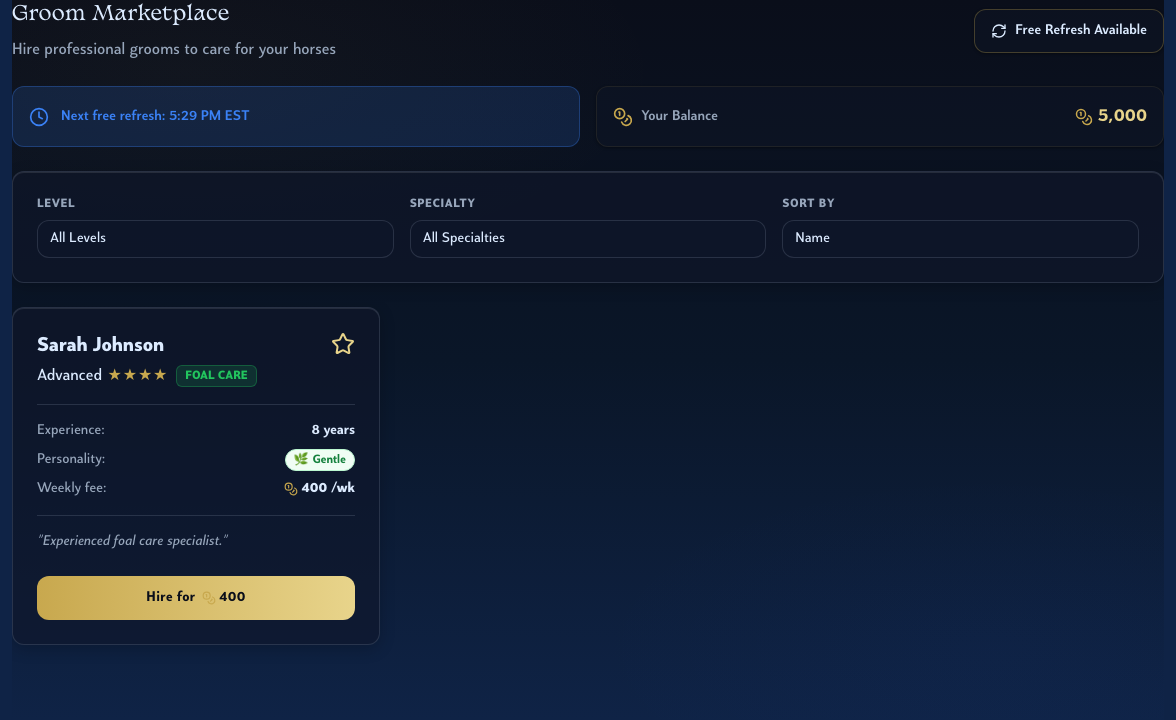
Test: GroomList — refusal codes (Equoria-dosig) › a short balance is named as a short balance, not as a full roster
Click the button with aria-label "hire sarah johnson". click: (196, 598)
box: x1=37 y1=576 x2=355 y2=620
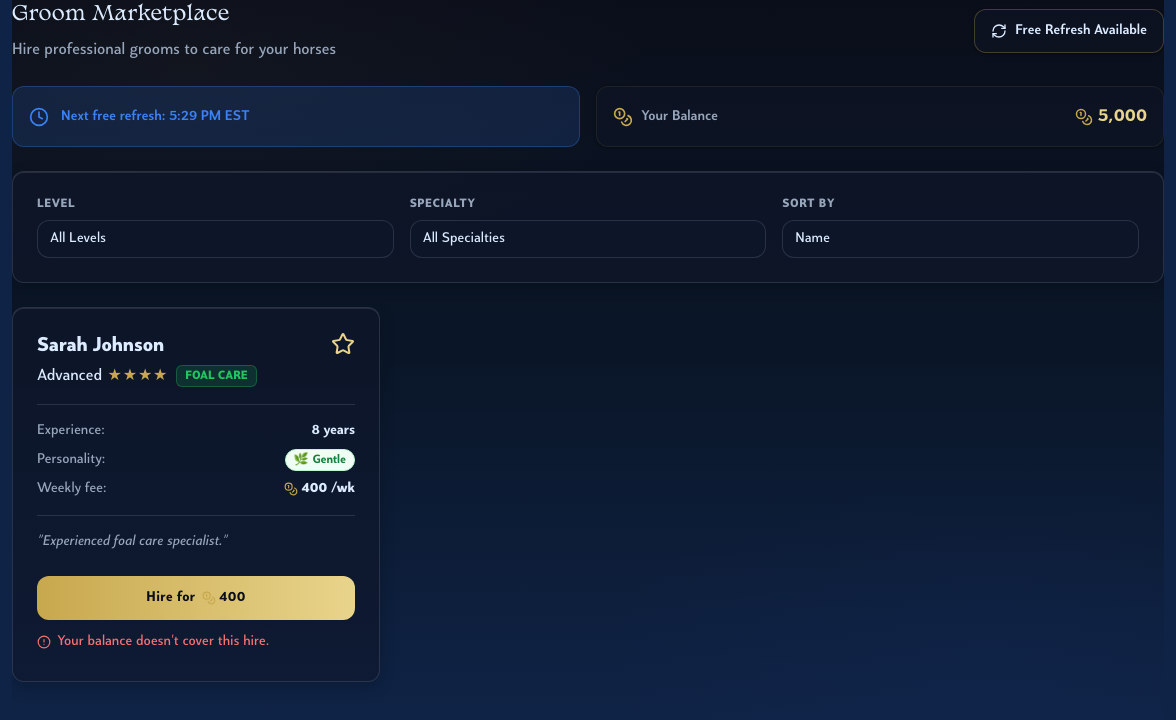
Expected: the message does not show "roster", x1=37 y1=632 x2=269 y2=652
Result: the message shows "balance" at x1=57 y1=634 x2=269 y2=649
